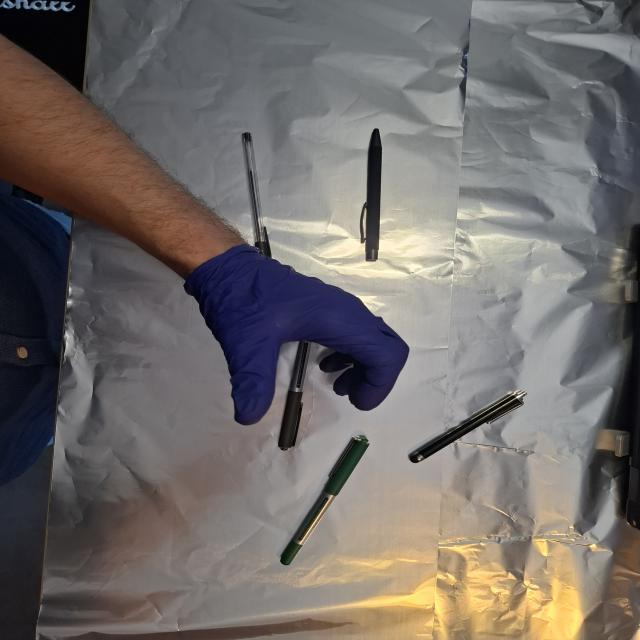glove_on: (187, 246, 412, 427)
